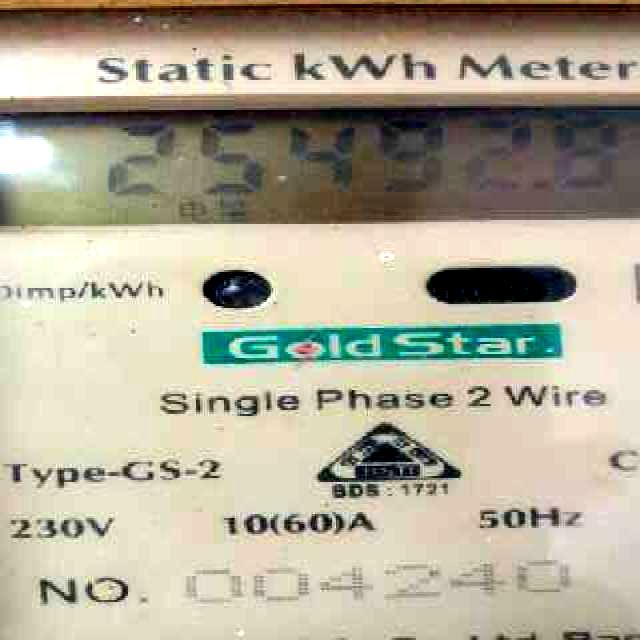LCD: (0, 83, 640, 237)
